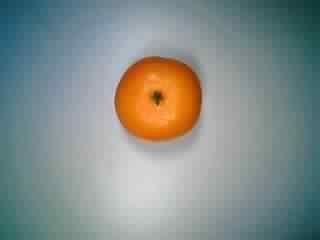orange: (109, 46, 204, 148)
